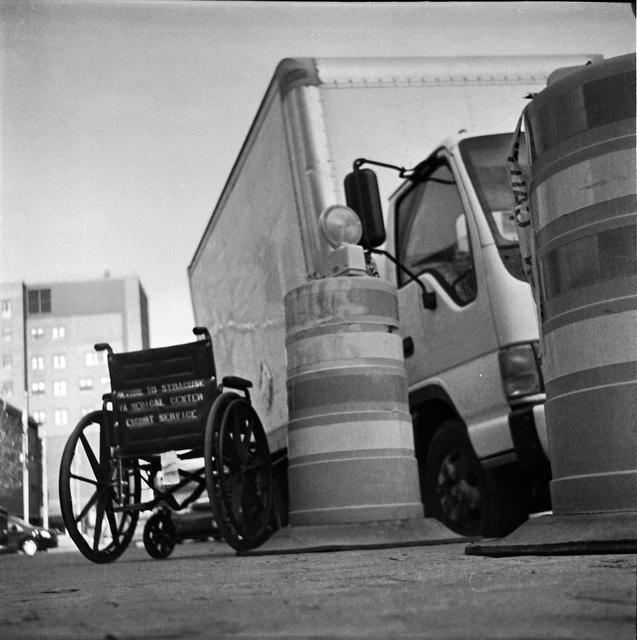car: (164, 485, 223, 545), (0, 507, 58, 556)
truck: (185, 54, 600, 536)
